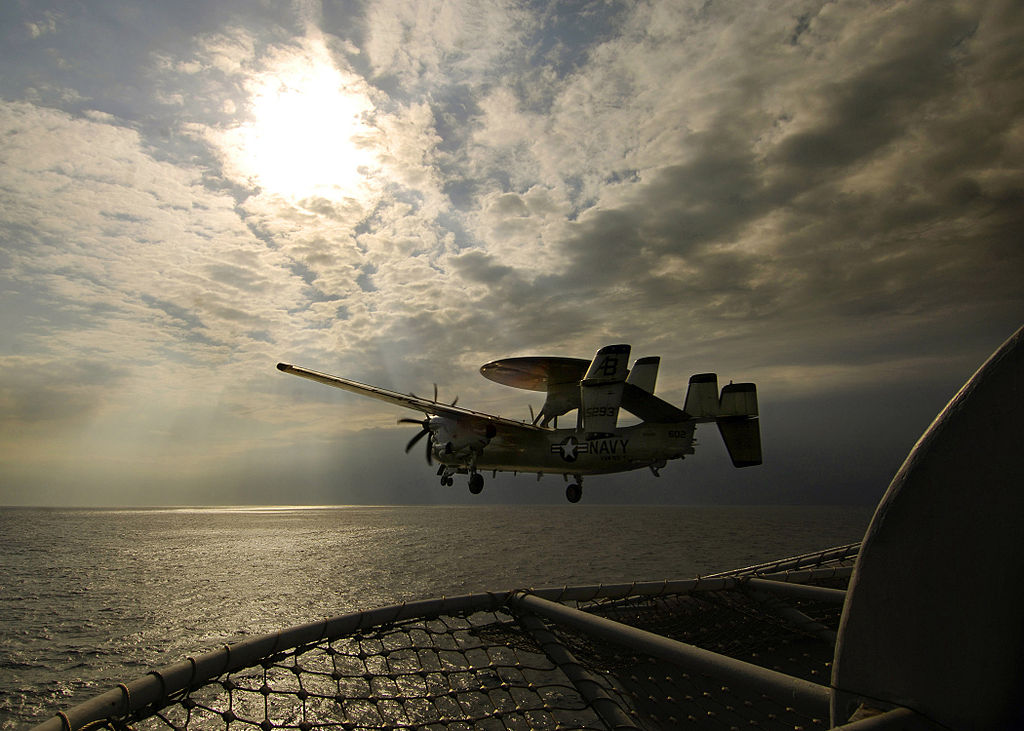E2: (276, 344, 764, 503)
